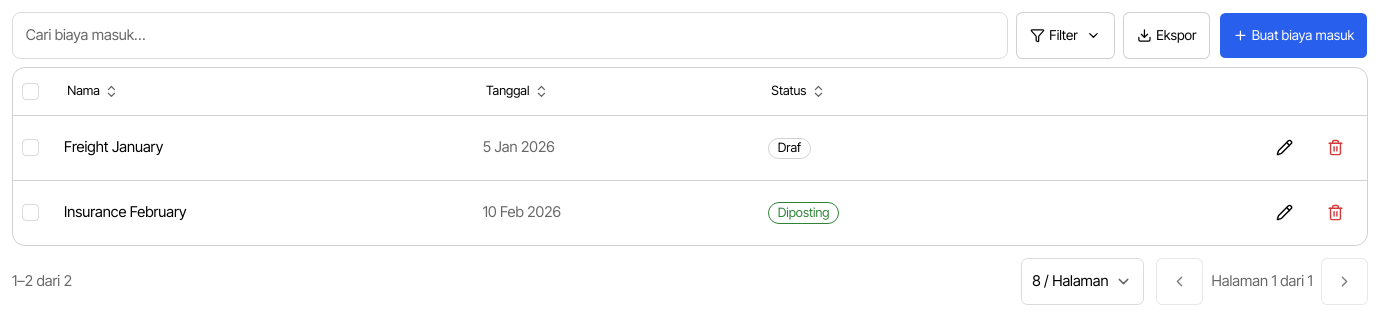
Test: InboundCostsSection › filters costs through the search box
Expected: the link "Freight January" is shown, [64, 138, 163, 156]
Type "Insurance" into the search field with placeholder "Cari biaya masuk…". click: (510, 35)
box: [12, 12, 1008, 59]
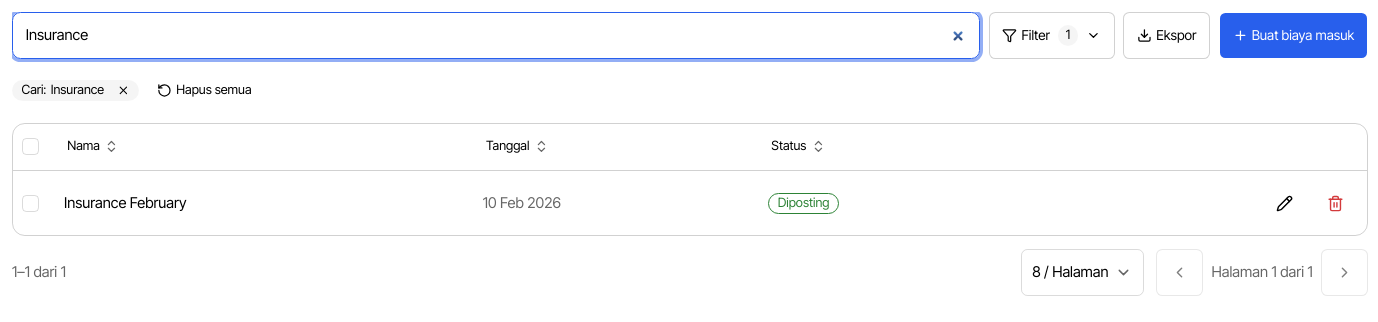
Expected: the link "Insurance February" is shown, [64, 194, 187, 212]
Now the link "Freight January" is gone
